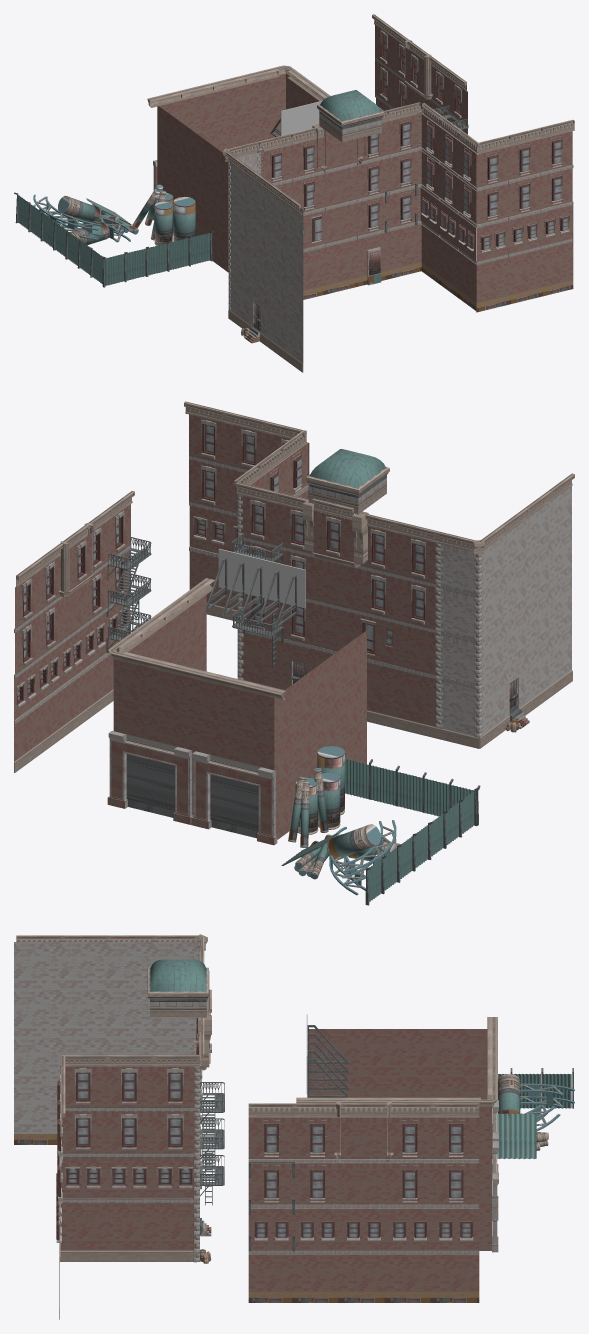
File: TestWalls for Level.fbx
3 renders of one model, top to bottom at view 1: azimuth 30°, elevation 25°; view 2: azimuth 150°, elevation 25°; view 3: azimuth 270°, elevation 25°, orthographic. The views are drawn at different scales.
Visible parts, largest first — view 1: wall02, Wall03, Wall01; view 2: wall02, Wall03, Wall01; view 3: wall02, Wall01, Wall03.
Part boxes in pixels (x1=…): wall02: x1=223, y1=90, x2=574, y2=372; Wall03: x1=14, y1=65, x2=330, y2=287; Wall01: x1=372, y1=14, x2=468, y2=134; wall02: x1=184, y1=401, x2=574, y2=748; Wall03: x1=107, y1=548, x2=480, y2=905; Wall01: x1=14, y1=491, x2=151, y2=772; wall02: x1=14, y1=934, x2=224, y2=1319; Wall01: x1=248, y1=1101, x2=479, y2=1302; Wall03: x1=296, y1=1014, x2=574, y2=1252.
Bounding box in the file's own units: 4848 × 5347 × 2659.
